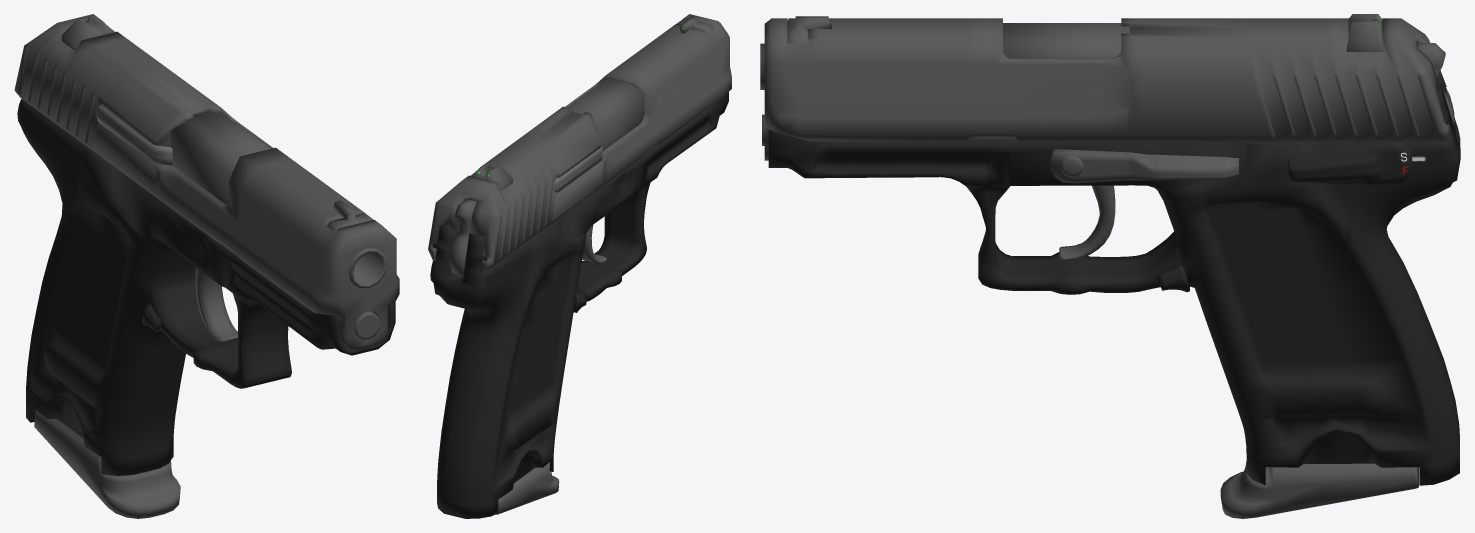
File: g_usp.glb
3 renders of one model, left to right at view 1: azimuth 30°, elevation 25°; view 2: azimuth 150°, elevation 25°; view 3: azimuth 270°, elevation 25°, orthographic. The views are drawn at different scales.
Visible parts, largest first — view 1: Barrel, slide_piece (×3), mag_piece, Small; view 2: Barrel, slide_piece (×3), mag_piece, Small; view 3: slide_piece (×3), Barrel, mag_piece, Small.
Boxes of the visible parts, bbox=[...] form: Barrel: bbox=[17, 99, 395, 475]; slide_piece (×3): bbox=[14, 14, 399, 350]; mag_piece: bbox=[34, 410, 180, 518]; Small: bbox=[142, 267, 237, 342]; Barrel: bbox=[430, 92, 728, 518]; slide_piece (×3): bbox=[428, 14, 731, 276]; mag_piece: bbox=[495, 462, 559, 514]; Small: bbox=[573, 225, 606, 312]; slide_piece (×3): bbox=[760, 14, 1454, 184]; Barrel: bbox=[768, 70, 1460, 485]; mag_piece: bbox=[1220, 461, 1418, 518]; Small: bbox=[1059, 185, 1189, 292].
Bounding box in the file's own units: 0.3218 × 1.54 × 2.
Materials: 3 (3 with a texture image).
